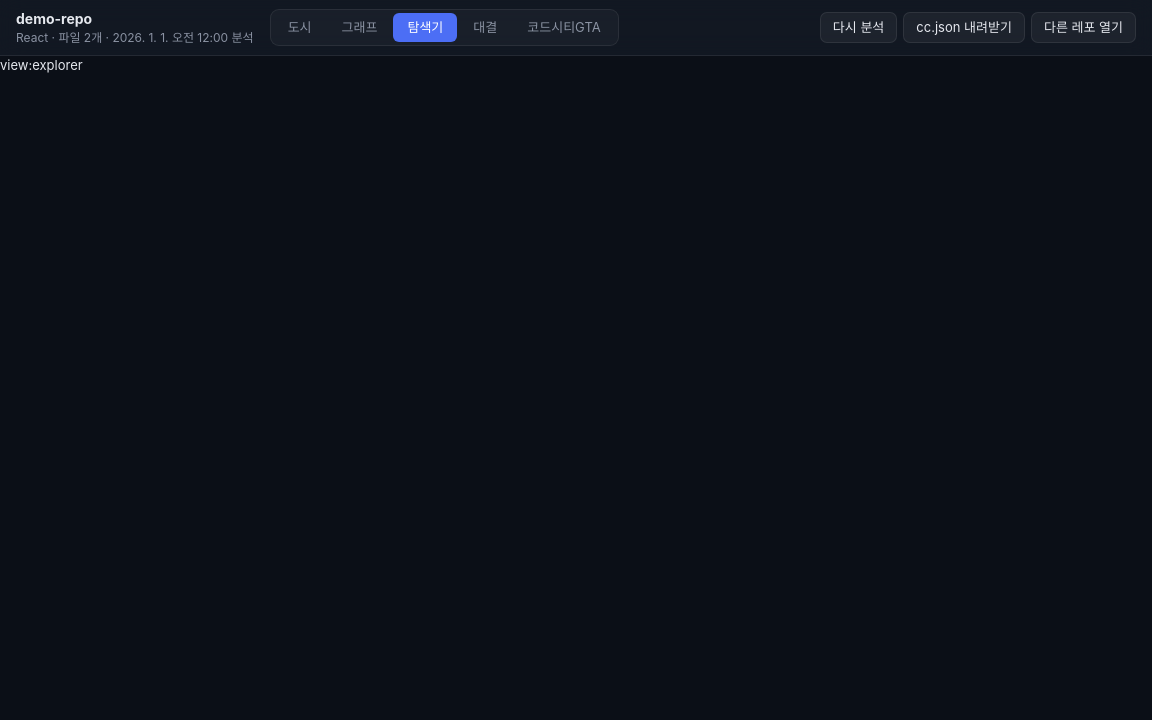
Scenario: ViewerShell › without WebGL the explorer is default and 3D tabs show a notice
Check: the text "view:explorer" is shown, box left=0, top=57, right=83, bottom=73
Click the tab "도시" at (300, 28), box left=274, top=13, right=326, bottom=42
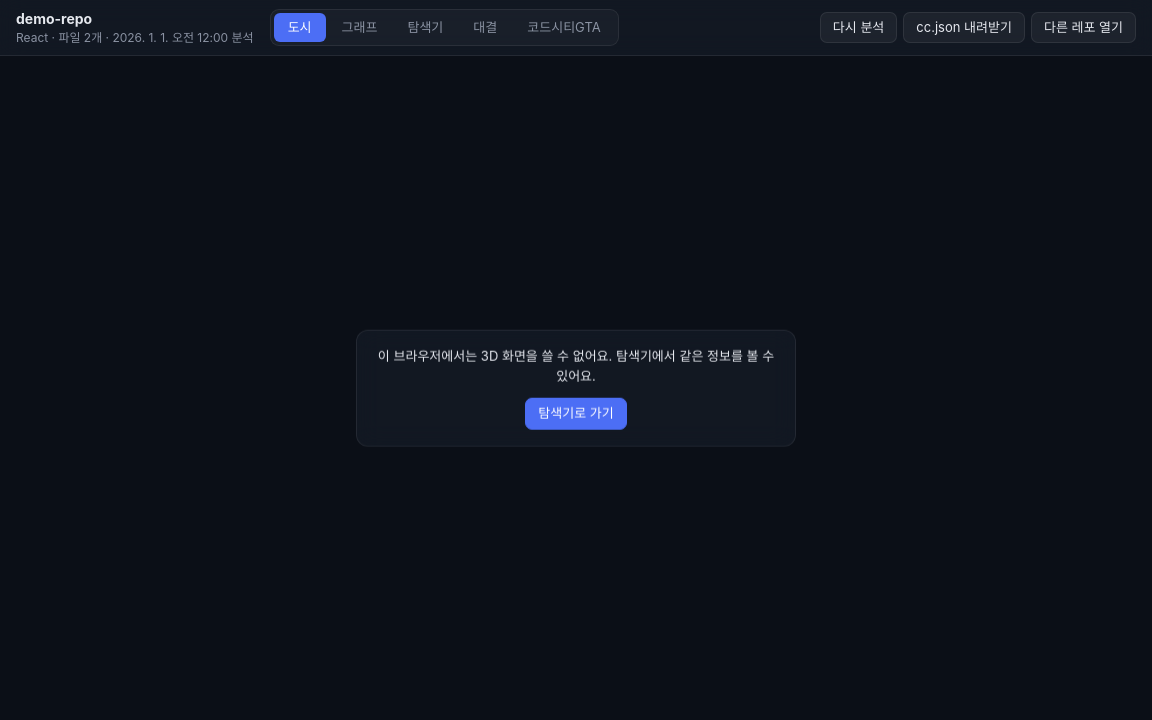
Check: the text "이 브라우저에서는 3D 화면을 쓸 수 없어요. 탐색기에서 같은 정보를 볼 수 있어요." is shown, box left=377, top=347, right=775, bottom=386
